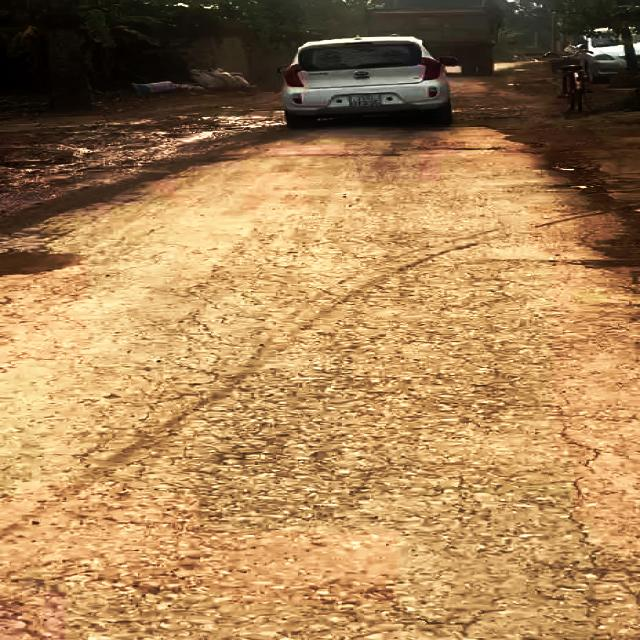pothole: (0, 248, 97, 280)
